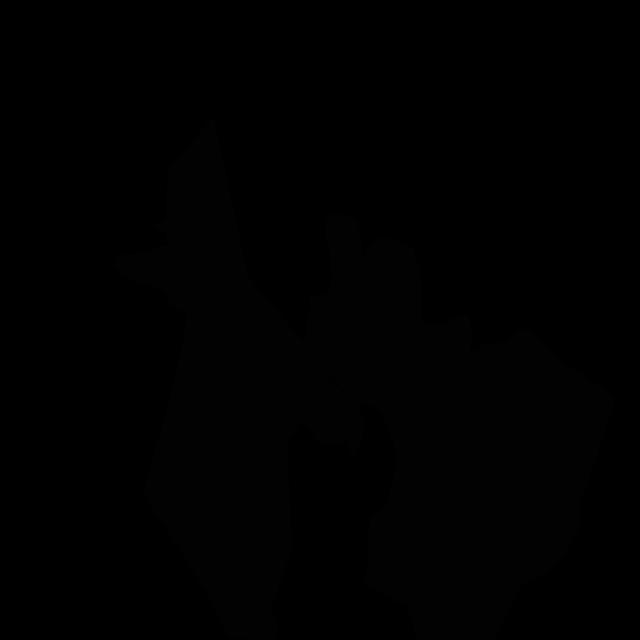cardboard: (304, 212, 614, 640), (114, 116, 366, 640)
